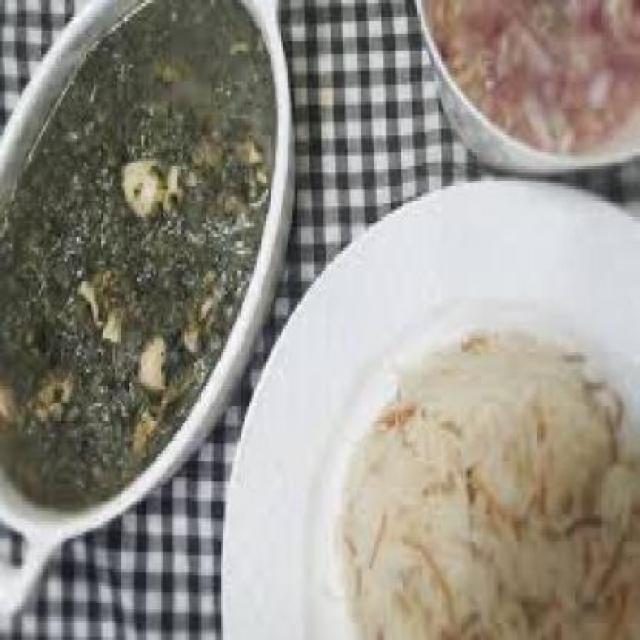fried rice: (336, 315, 638, 636)
